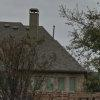Chimney: (23, 4, 52, 35)
